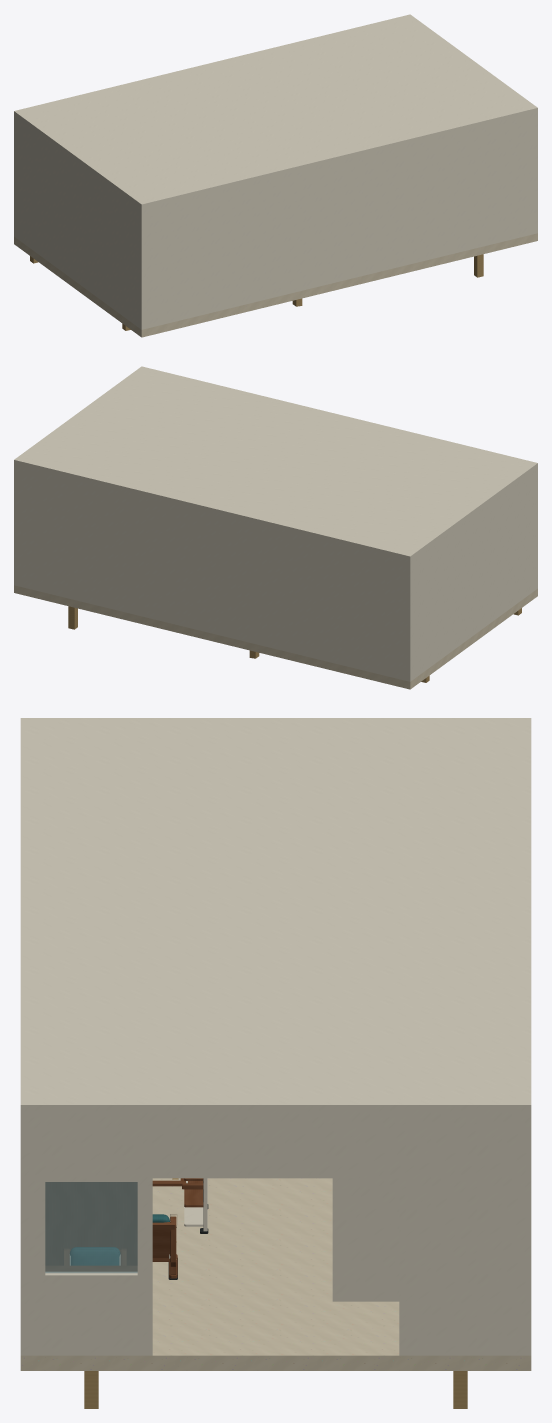
File: StarAtlasSpecialty_497.glb
3 views of the same model, one above another, from view 1: azimuth 30°, elevation 25°; view 2: azimuth 150°, elevation 25°; view 3: azimuth 270°, elevation 25° (orthographic). The views are drawn at different scales.
Parts seen in each view (by area): view 1: SA497_Ceiling, SA497_NorthSide, SA497_OpaqueRearBoundary, SA497_RoomFloor; view 2: SA497_Ceiling, SA497_SouthSide, SA497_OpaqueRearBoundary, SA497_RoomFloor; view 3: SA497_Ceiling, SA497_RoomFloor, SA497_EntryShoulderSouth, SA497_EntryHeader, SA497_StreetWindowLower, SA497_ScreenedStreetGlass, SA497_WashEntrySide, SA497_StreetWindowUpper, SA497_EntryPrivacyDogleg, SA497_NorthSide, SA497_SouthSide, SA497_StreetWindowOuterPier (+2 smaller).
Part boxes in pixels (box(x1,y1,x2,y2)): SA497_Ceiling: box(14, 14, 537, 209); SA497_NorthSide: box(139, 113, 537, 329); SA497_OpaqueRearBoundary: box(16, 118, 139, 327); SA497_RoomFloor: box(14, 233, 537, 337); SA497_Ceiling: box(14, 366, 537, 561); SA497_SouthSide: box(14, 465, 412, 681); SA497_OpaqueRearBoundary: box(412, 470, 535, 679); SA497_RoomFloor: box(14, 585, 537, 689); SA497_Ceiling: box(20, 718, 531, 1115); SA497_RoomFloor: box(20, 1178, 531, 1370); SA497_EntryShoulderSouth: box(399, 1115, 522, 1355); SA497_EntryHeader: box(148, 1115, 403, 1178); SA497_StreetWindowLower: box(29, 1272, 152, 1355); SA497_ScreenedStreetGlass: box(45, 1182, 137, 1272); SA497_WashEntrySide: box(332, 1178, 399, 1301); SA497_StreetWindowUpper: box(29, 1115, 152, 1181); SA497_EntryPrivacyDogleg: box(45, 1182, 137, 1265); SA497_NorthSide: box(20, 1115, 28, 1355); SA497_SouthSide: box(523, 1115, 531, 1355); SA497_StreetWindowOuterPier: box(29, 1182, 45, 1275).
Size of the model in its own units: 12.9 by 5.31 by 7.2.
Materials: 67 (49 with a texture image).
